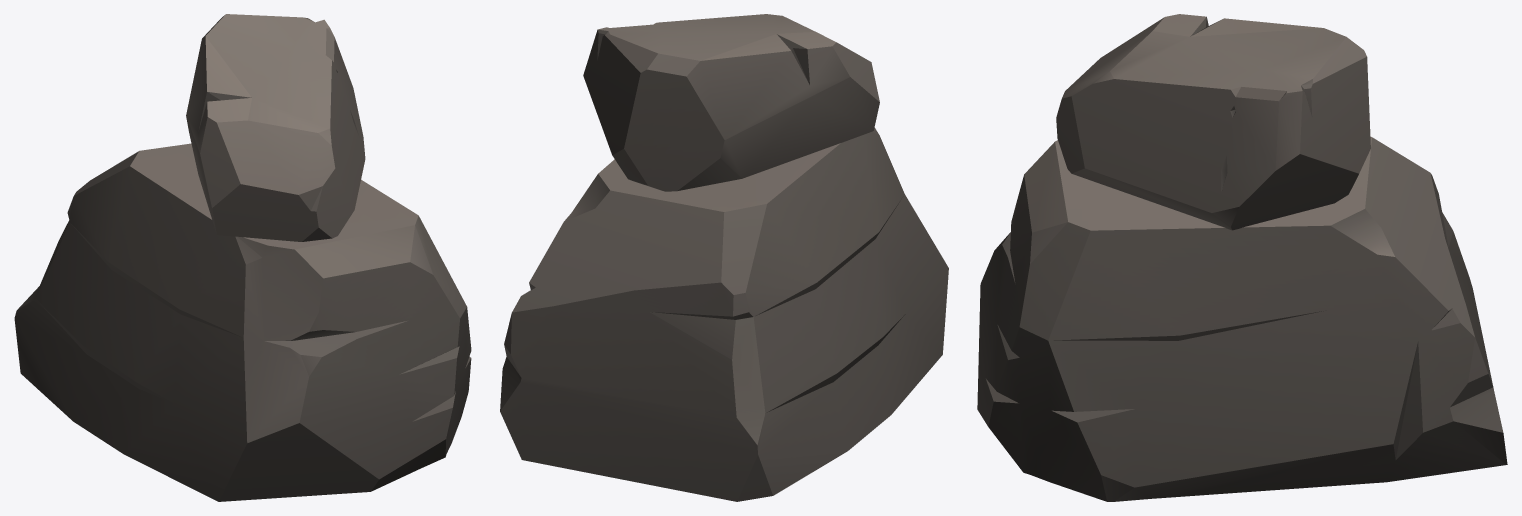
File: Rock_Boulder_1B.fbx
3 renders of one model, left to right at view 1: azimuth 30°, elevation 25°; view 2: azimuth 150°, elevation 25°; view 3: azimuth 270°, elevation 25°, orthographic. The views are drawn at different scales.
Visible parts, largest first — view 1: Rock_Boulder_1B; view 2: Rock_Boulder_1B; view 3: Rock_Boulder_1B.
Part boxes in pixels (bbox=[...]): Rock_Boulder_1B: bbox=[14, 14, 471, 501]; Rock_Boulder_1B: bbox=[500, 14, 948, 501]; Rock_Boulder_1B: bbox=[977, 14, 1507, 501].
Size of the model in its own units: 832 by 940 by 1142.
